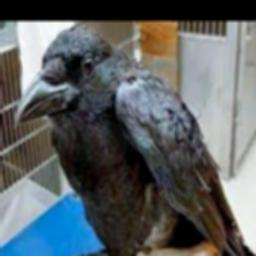Crow: (14, 25, 256, 256)
